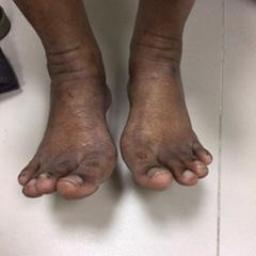Front View -Both Feet-: (13, 26, 225, 209)
